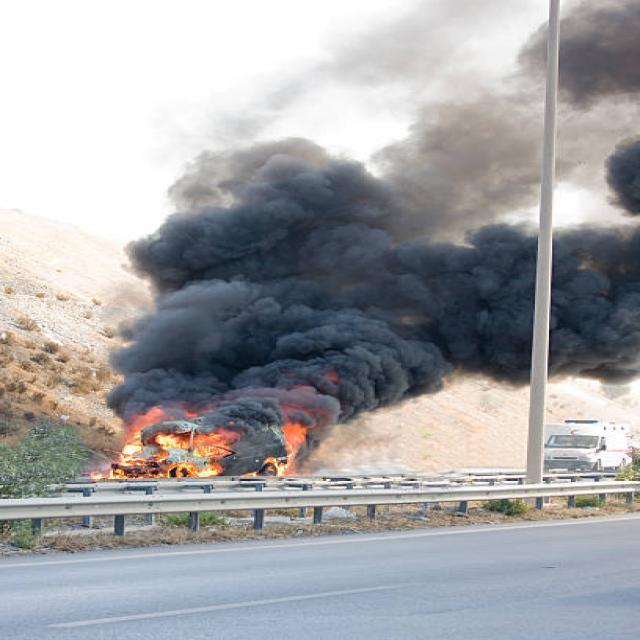Fire: (116, 399, 354, 496)
Smoke: (139, 157, 491, 417), (564, 0, 640, 408)
